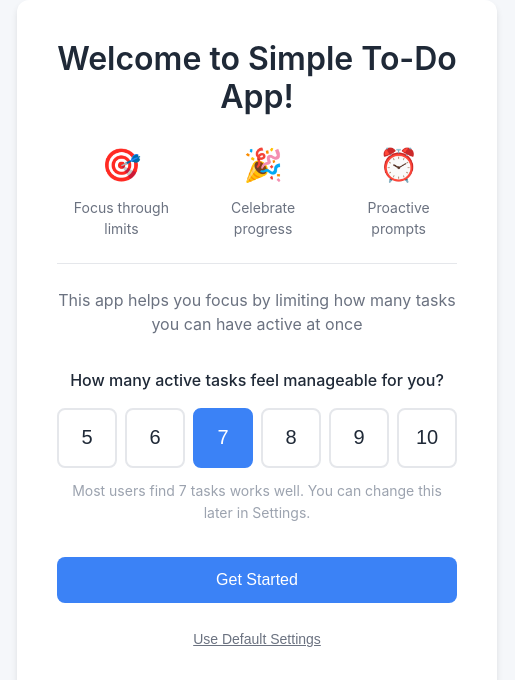
Scenario: FirstLaunchScreen › User Interactions › should allow retry after error
Note: First attempt - fails
Click the button "Get Started" at [257, 580], box [57, 557, 457, 603]
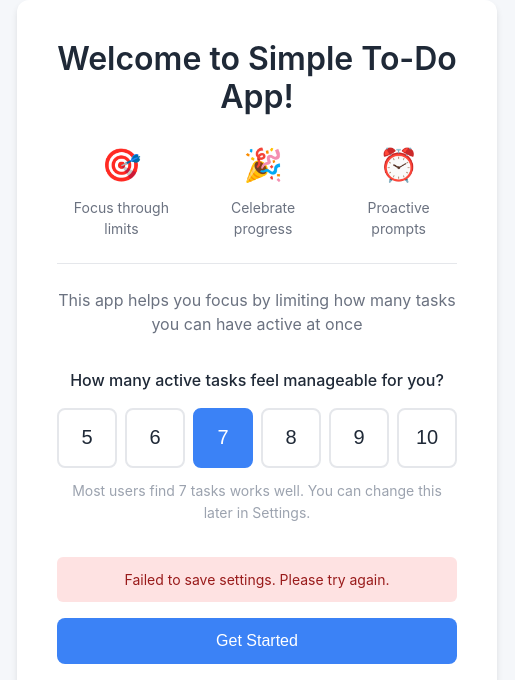
Check: the message "Failed to save settings. Please try again." is shown, box [57, 557, 457, 602]
Note: Second attempt - succeeds
Click the button "Get Started" at [257, 641], box [57, 618, 457, 664]
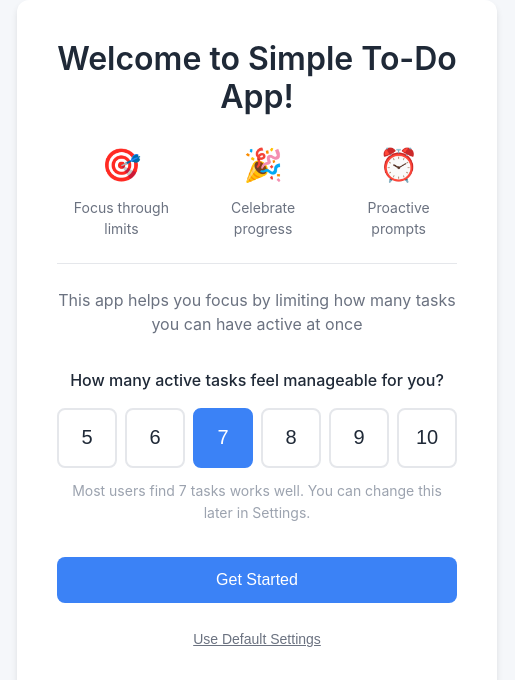
Check: the message "Failed to save settings. Please try again." is gone
